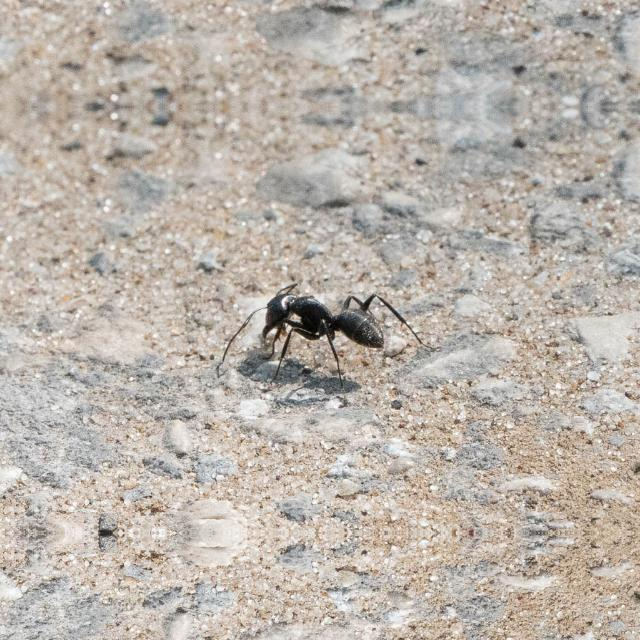Camponotus: (245, 261, 403, 373)
